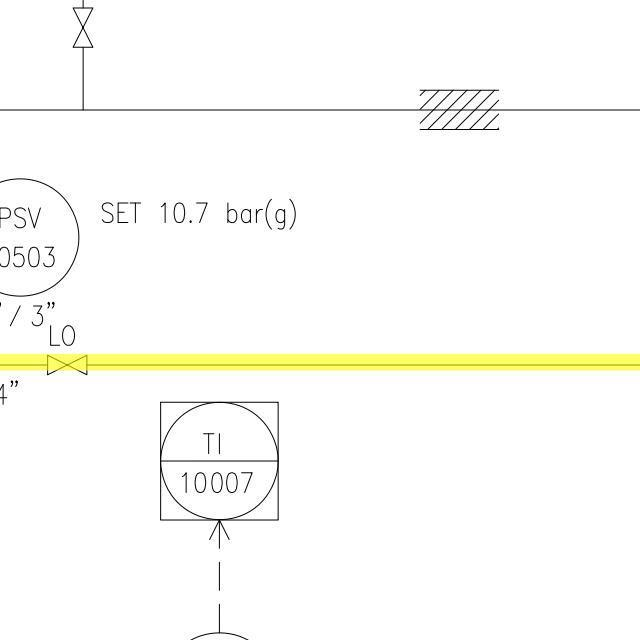GV: (67, 2, 100, 54), (42, 350, 92, 378)
